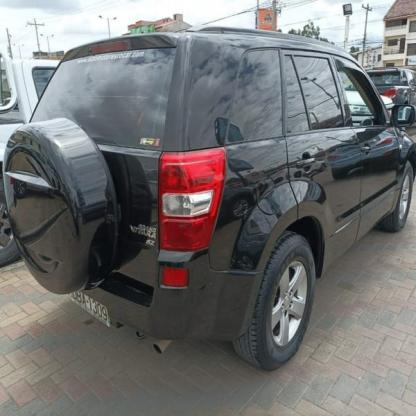Placa: (68, 286, 115, 333)
